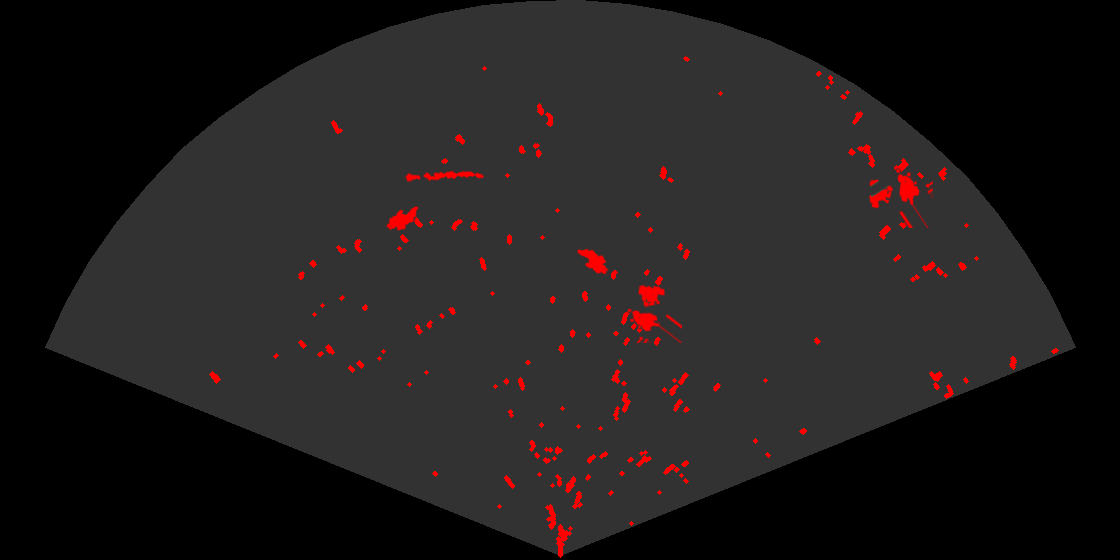AUV: (575, 247, 610, 276), (385, 205, 420, 232)
cage: (867, 167, 933, 228), (626, 283, 682, 343)
chain: (404, 169, 485, 183)
